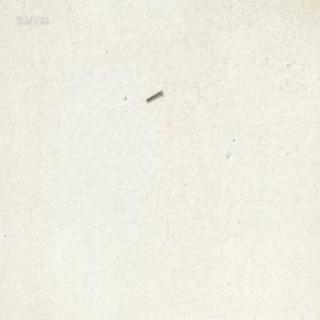Bolttrack_idkeyframe: (144, 88, 161, 101)
